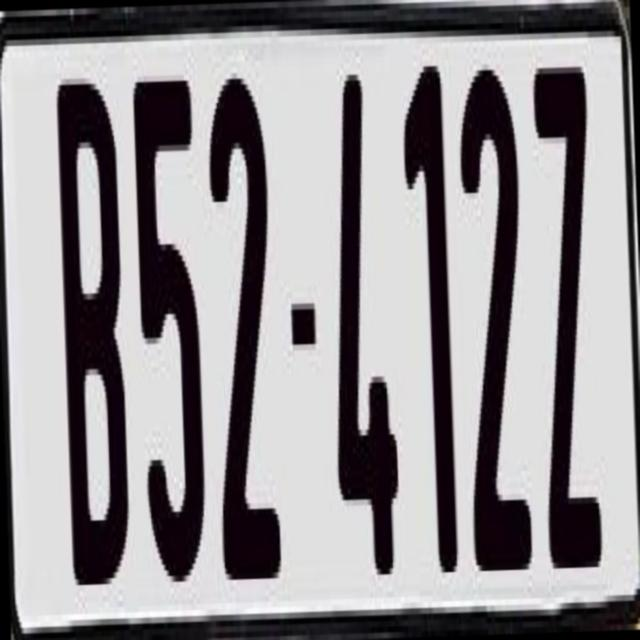1: (401, 65, 459, 596)
2: (456, 51, 538, 583), (206, 60, 286, 562)
4: (324, 73, 402, 605)
5: (128, 74, 206, 594)
B: (50, 71, 129, 591)
Z: (528, 66, 598, 586)
